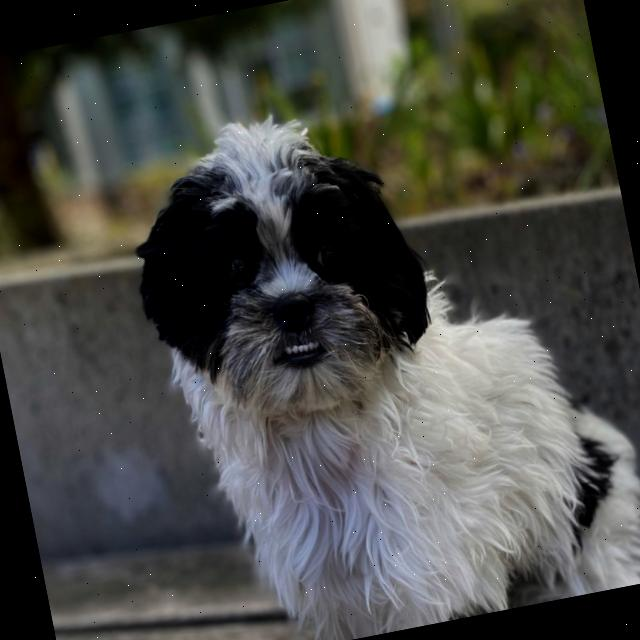shih_tzu_dog: (96, 76, 474, 480)
